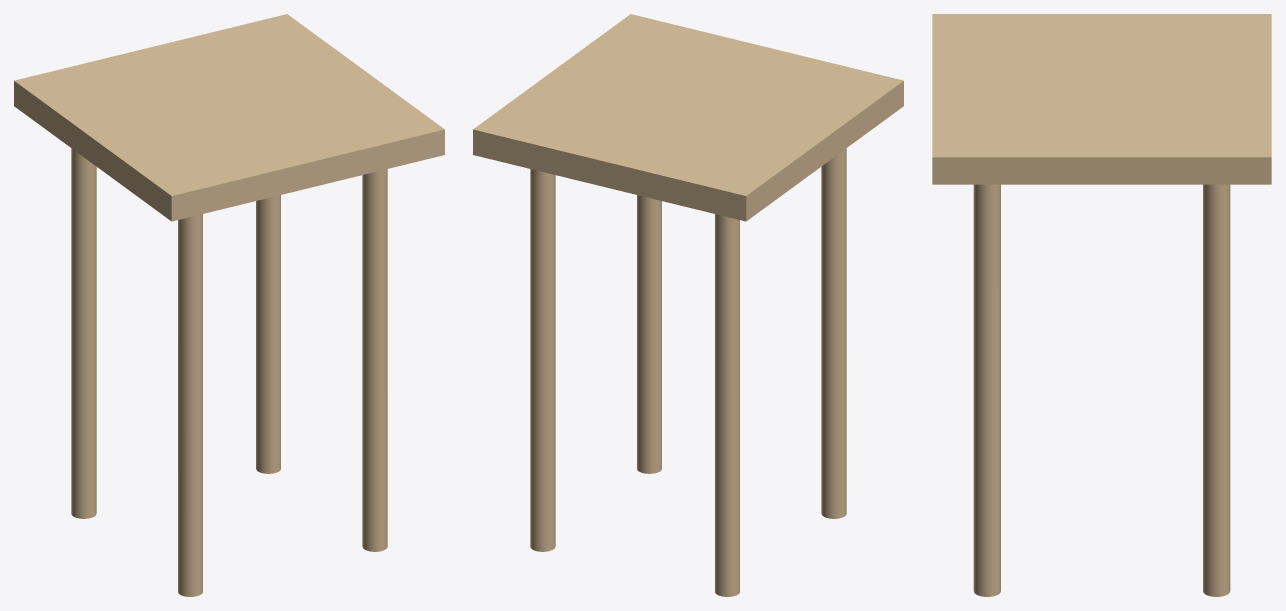
Rendered from ikea-vihals-60508597-g2-proxy.glb.
3 renders of one model, left to right at view 1: azimuth 30°, elevation 25°; view 2: azimuth 150°, elevation 25°; view 3: azimuth 270°, elevation 25°, orthographic. The views are drawn at different scales.
Parts seen in each view (by area): view 1: proxy_body, leg (×4); view 2: proxy_body, leg (×4); view 3: proxy_body, leg (×2).
Part boxes in pixels (x1,y1,x2,y2): proxy_body: (14,14,444,221); leg (×4): (71,148,387,596); proxy_body: (473,14,903,221); leg (×4): (530,148,846,596); proxy_body: (932,14,1271,184); leg (×2): (973,184,1230,596).
Size of the model in its own units: 0.37 by 0.55 by 0.37.
